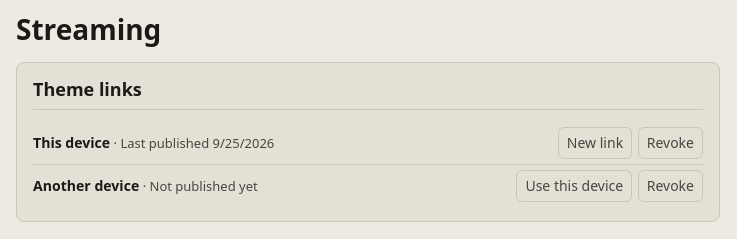
Test: the account's theme links › asks once more before making a new link, and Cancel leaves the link alone
Click the button "New link" at (595, 143), box [558,127,632,159]
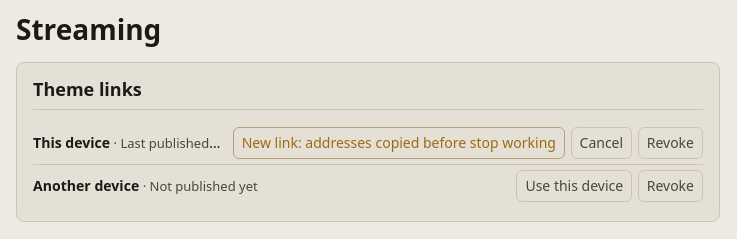
Click the button "Cancel" at (601, 143), box [570,127,632,159]
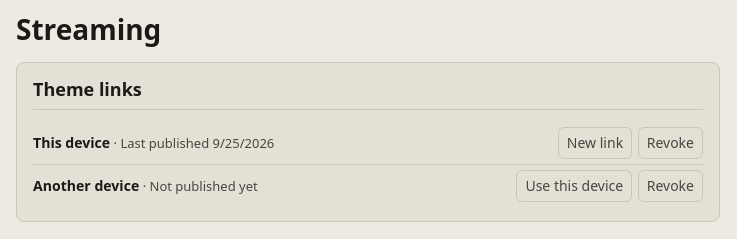
expect the button "New link" is shown: met, box [558,127,632,159]
expect the button "New link: addresses copied before stop working" is gone: met
